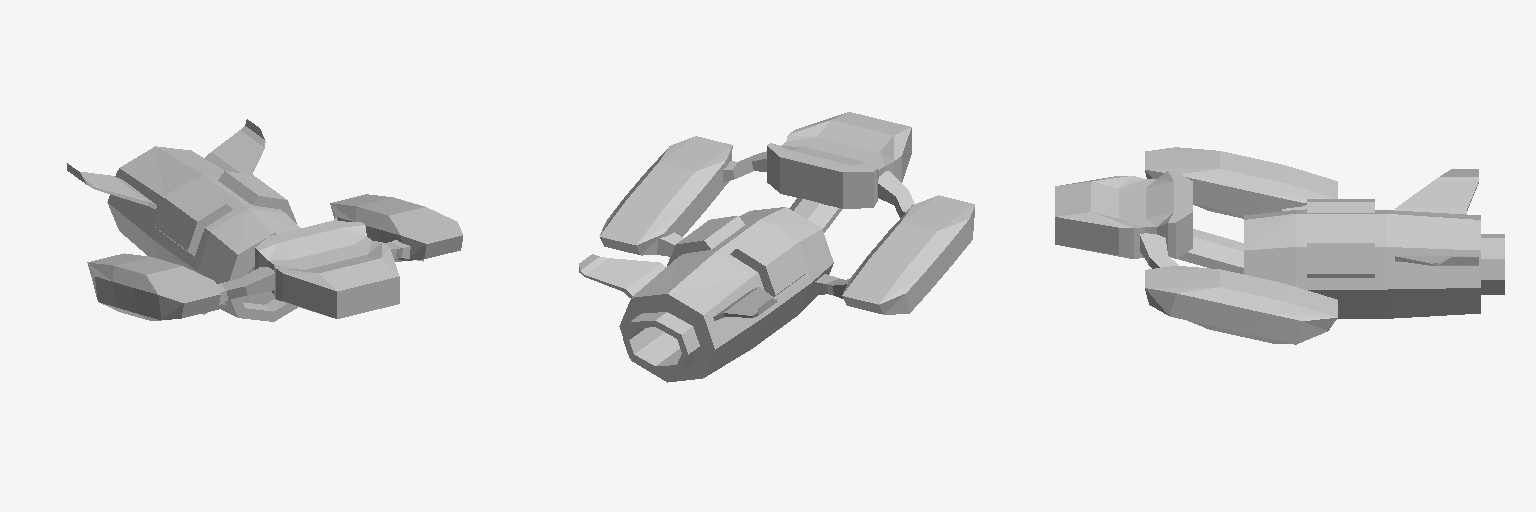
File: spaceship10.obj
3 views of the same model, side by side, from view 1: azimuth 30°, elevation 25°; view 2: azimuth 150°, elevation 25°; view 3: azimuth 270°, elevation 25° (orthographic).
Parts seen in each view (by area): view 1: M1_Ship_3_Cube.049; view 2: M1_Ship_3_Cube.049; view 3: M1_Ship_3_Cube.049.
Boxes of the visible parts, <box> form: M1_Ship_3_Cube.049: <box>67,119,462,321</box>; M1_Ship_3_Cube.049: <box>579,112,974,382</box>; M1_Ship_3_Cube.049: <box>1055,147,1504,344</box>.
Size of the model in its own units: 0.7748 by 0.2905 by 1.